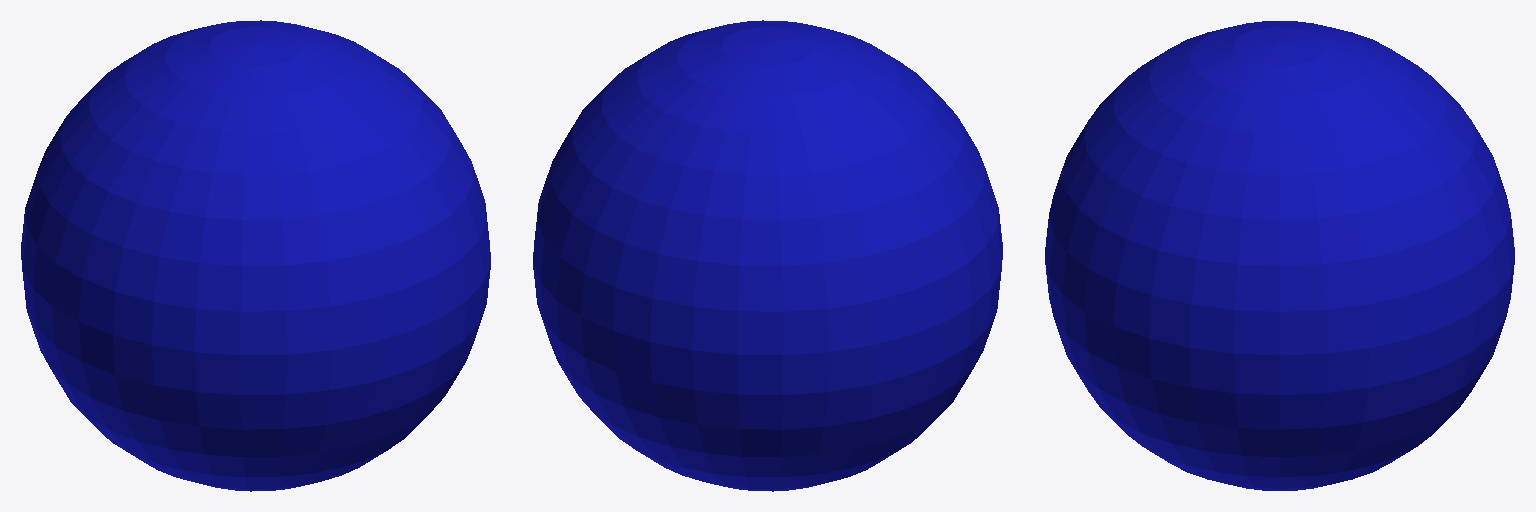
robot.urdf — GP7:
<?xml version="1.0"?>
<robot name="GP7">
    <!-- link list -->
    <link name="base_link">
        <visual>
            <geometry>
                <mesh filename="[local-path]/Documents/workspace/drake_cfs_lib/script/environment_description/gp12/meshes/visual/gp12_base_link.obj"/>
            </geometry>
            <material name="Endeffector_material">
                <color rgba="0.129411765 0.149019608 0.749019608 1.0" />
            </material>
        </visual>
        <collision>
            <geometry>
                <mesh filename="[local-path]/Documents/workspace/drake_cfs_lib/script/environment_description/gp12/meshes/collision/gp12_base_link.obj"/>
            </geometry>
        </collision>
    </link>
    <link name="link_1_s">
        <visual>
            <geometry>
                <mesh filename="[local-path]/Documents/workspace/drake_cfs_lib/script/environment_description/gp12/meshes/visual/gp12_link_1_s.obj"/>
            </geometry>
            <material name="Endeffector_material">
                <color rgba="0.129411765 0.149019608 0.749019608 1.0" />
            </material>
        </visual>
        <collision>
            <geometry>
                <mesh filename="[local-path]/Documents/workspace/drake_cfs_lib/script/environment_description/gp12/meshes/collision/gp12_link_1_s.obj"/>
            </geometry>
        </collision>
    </link>
    <link name="link_2_l">
        <visual>
            <geometry>
                <mesh filename="[local-path]/Documents/workspace/drake_cfs_lib/script/environment_description/gp12/meshes/visual/gp12_link_2_l.obj"/>
            </geometry>
            <material name="Endeffector_material">
                <color rgba="0.129411765 0.149019608 0.749019608 1.0" />
            </material>
        </visual>
        <collision>
            <geometry>
                <mesh filename="[local-path]/Documents/workspace/drake_cfs_lib/script/environment_description/gp12/meshes/collision/gp12_link_2_l.obj"/>
            </geometry>
        </collision>
    </link>
    <link name="link_3_u">
        <visual>
            <geometry>
                <mesh filename="[local-path]/Documents/workspace/drake_cfs_lib/script/environment_description/gp12/meshes/visual/gp12_link_3_u.obj"/>
            </geometry>
            <material name="Endeffector_material">
                <color rgba="0.129411765 0.149019608 0.749019608 1.0" />
            </material>
        </visual>
        <collision>
            <geometry>
                <mesh filename="[local-path]/Documents/workspace/drake_cfs_lib/script/environment_description/gp12/meshes/collision/gp12_link_3_u.obj"/>
            </geometry>
        </collision>
    </link>
    <link name="link_4_r">
        <visual>
            <geometry>
                <mesh filename="[local-path]/Documents/workspace/drake_cfs_lib/script/environment_description/gp12/meshes/visual/gp12_link_4_r.obj"/>
            </geometry>
            <material name="Endeffector_material">
                <color rgba="0.129411765 0.149019608 0.749019608 1.0" />
            </material>
        </visual>
        <collision>
            <geometry>
                <mesh filename="[local-path]/Documents/workspace/drake_cfs_lib/script/environment_description/gp12/meshes/collision/gp12_link_4_r.obj"/>
            </geometry>
        </collision>
    </link>
    <link name="link_5_b">
        <visual>
            <geometry>
                <mesh filename="[local-path]/Documents/workspace/drake_cfs_lib/script/environment_description/gp12/meshes/visual/gp12_link_5_b.obj"/>
            </geometry>
            <material name="Endeffector_material">
                <color rgba="0.129411765 0.149019608 0.749019608 1.0" />
            </material>
        </visual>
        <collision>
            <geometry>
                <mesh filename="[local-path]/Documents/workspace/drake_cfs_lib/script/environment_description/gp12/meshes/collision/gp12_link_5_b.obj"/>
            </geometry>
        </collision>
    </link>
    <link name="link_6_t">
        <visual>
            <geometry>
                <mesh filename="[local-path]/Documents/workspace/drake_cfs_lib/script/environment_description/gp12/meshes/visual/gp12_link_6_t.obj"/>
            </geometry>
            <material name="Endeffector_material">
                <color rgba="0.129411765 0.149019608 0.749019608 1.0" />
            </material>
        </visual>
        <collision>
            <geometry>
                <mesh filename="[local-path]/Documents/workspace/drake_cfs_lib/script/environment_description/gp12/meshes/collision/gp12_link_6_t.obj"/>
            </geometry>
        </collision>
        <visual>
            <origin rpy="-1.57 0 -1.57" xyz="0.0 0.0 -0.06"/>
            <geometry>
                <mesh filename="[local-path]/Documents/workspace/drake_cfs_lib/script/environment_description/gp12/meshes/visual/suction_gripper.obj"/>
            </geometry>
            <material name="Endeffector_material">
                <color rgba="0.129411765 0.149019608 0.749019608 1.0" />
            </material>
        </visual>
        <collision>
            <origin rpy="-1.57 0 -1.57" xyz="0. 0 -0.06"/>
            <geometry>
                <mesh filename="[local-path]/Documents/workspace/drake_cfs_lib/script/environment_description/gp12/meshes/collision/suction_gripper.obj"/>
            </geometry>
        </collision>
    </link>
    <link name="tool0">
        <visual name="Endeffector">
            <origin rpy="0.000000 0.000000 0.000000" xyz="0.000000 0.000000 0.000000" />
            <geometry>
                <sphere radius="0.02"/>
            </geometry>
            <material name="Endeffector_material">
                <color rgba="0.129411765 0.149019608 0.749019608 1.0" />
            </material>
        </visual>
    </link>
    <!-- end of link list -->

    <!-- joint list -->
    <joint name="joint_1_s" type="revolute">
        <parent link="base_link"/>
        <child link="link_1_s"/>
        <origin xyz="0 0 0.450" rpy="0 0 0" />
        <axis xyz="0 0 1" />
        <limit lower="-2.9670" upper="2.9670" effort="926.10" velocity="4.5355"/>
    </joint>
    <joint name="joint_2_l" type="revolute">
        <parent link="link_1_s"/>
        <child link="link_2_l"/>
        <origin xyz="0.155 0 0" rpy="0 0 0" />
        <axis xyz="0 1 0" />
        <limit lower="-1.5708" upper="2.7052" effort="1029.00" velocity="4.0132"/>
    </joint>
    <joint name="joint_3_u" type="revolute">
        <parent link="link_2_l"/>
        <child link="link_3_u"/>
        <origin xyz="0 0 0.614" rpy="0 0 0" />
        <axis xyz="0 -1 0" />
        <limit lower="-1.4835" upper="2.6179" effort="551.25" velocity="4.5375"/>
    </joint>
    <joint name="joint_4_r" type="revolute">
        <parent link="link_3_u"/>
        <child link="link_4_r"/>
        <origin xyz="0.640 0 0.200" rpy="0 0 0" />
        <axis xyz="-1 0 0" />
        <limit lower="-3.4906" upper="3.4906" effort="89.96" velocity="8.2007"/>
    </joint>
    <joint name="joint_5_b" type="revolute">
        <parent link="link_4_r"/>
        <child link="link_5_b"/>
        <origin xyz="0 0 0" rpy="0 0 0" />
        <axis xyz="0 -1 0" />
        <limit lower="-2.6179" upper="2.6179" effort="67.03" velocity="8.1992"/>
    </joint>
    <joint name="joint_6_t" type="revolute">
        <parent link="link_5_b"/>
        <child link="link_6_t"/>
        <origin xyz="0 0 0" rpy="0 0 0" />
        <axis xyz="-1 0 0" />
        <limit lower="-7.9412" upper="7.9412" effort="33.30" velocity="12.2143"/>
    </joint>
    <joint name="joint_6_t-tool0" type="fixed">
        <origin rpy="0.000000 0.000000 0.000000" xyz="0.000000 0.000000 -0.600000" />
        <parent link="link_6_t"/>
        <child link="tool0"/>
    </joint>
    <!-- end of joint list -->

    <!-- ROS base_link to Robot Manufacturer World Coordinates transform -->
    <!-- <link name="base" />
    <joint name="base_link-base" type="fixed">
        <origin xyz="0 0 0.450" rpy="0 0 0"/>
        <parent link="base_link"/>
        <child link="base"/>
    </joint> -->

    <!-- <link name="world" />
    <joint name="world-base_link" type="floating">
        <origin xyz="0 0 0" rpy="0 0 0"/>
        <parent link="world"/>
        <child link="base_link"/>
    </joint> -->
</robot>

--- What the picture shows (computed from the rendered views, not written in the file) ---
The picture shows the robot from 3 angles, left to right: view 1: azimuth 30°, elevation 25°; view 2: azimuth 150°, elevation 25°; view 3: azimuth 270°, elevation 25°; orthographic projection.
Model GP7 with 8 links and 7 joints (6 revolute, 1 fixed), rooted at base_link, posed all joints at 0.
Visible links, largest first — view 1: tool0; view 2: tool0; view 3: tool0.
Link boxes in pixels (left/top/right/bottom): tool0: left=21, top=20, right=490, bottom=491; tool0: left=533, top=20, right=1002, bottom=491; tool0: left=1045, top=21, right=1514, bottom=490.
Bounding box of the posed robot: 0.04 × 0.04 × 0.04 m (x, y, z).
Geometry: only primitive shapes (box / cylinder / sphere) drawn; not drawn: 8 mesh visuals (reference in a form the renderer does not follow).